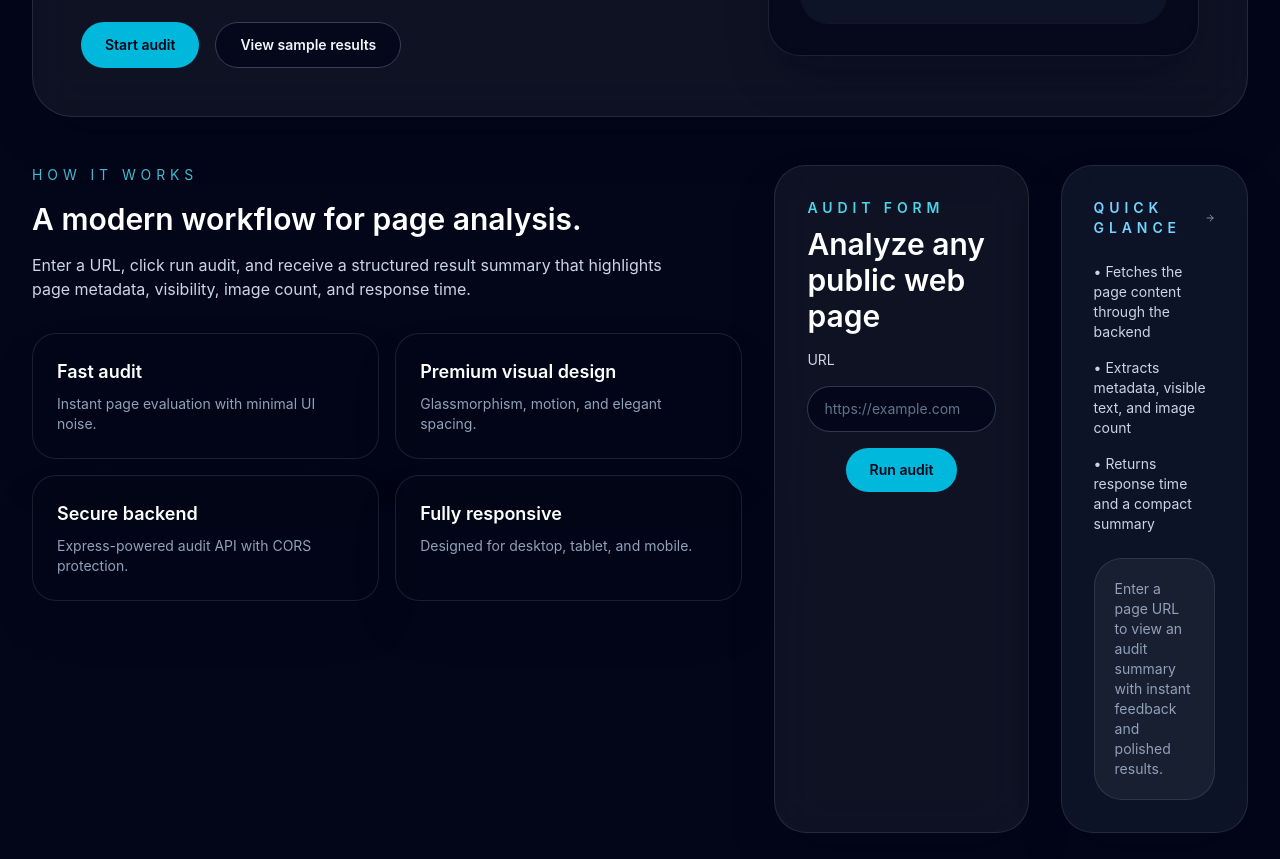
Test: App › shows only the error message when the API returns a failure
(page scrolled)
Step 1. Type "https://www.friv.com" into the field labelled "URL" → (902, 409), box [807,386,996,432]
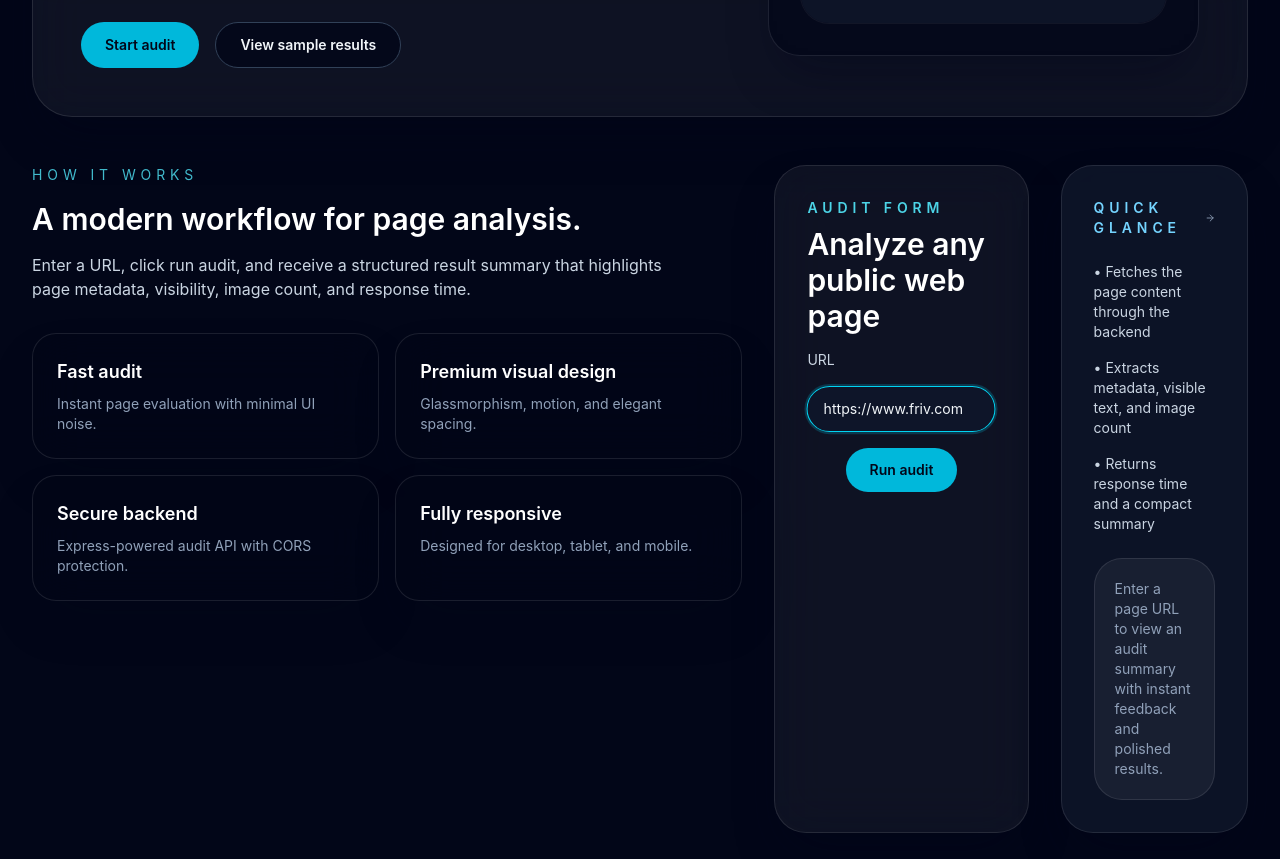
Step 2. Click the button "Run audit" → (902, 470), box [846,448,957,492]
(page scrolled)
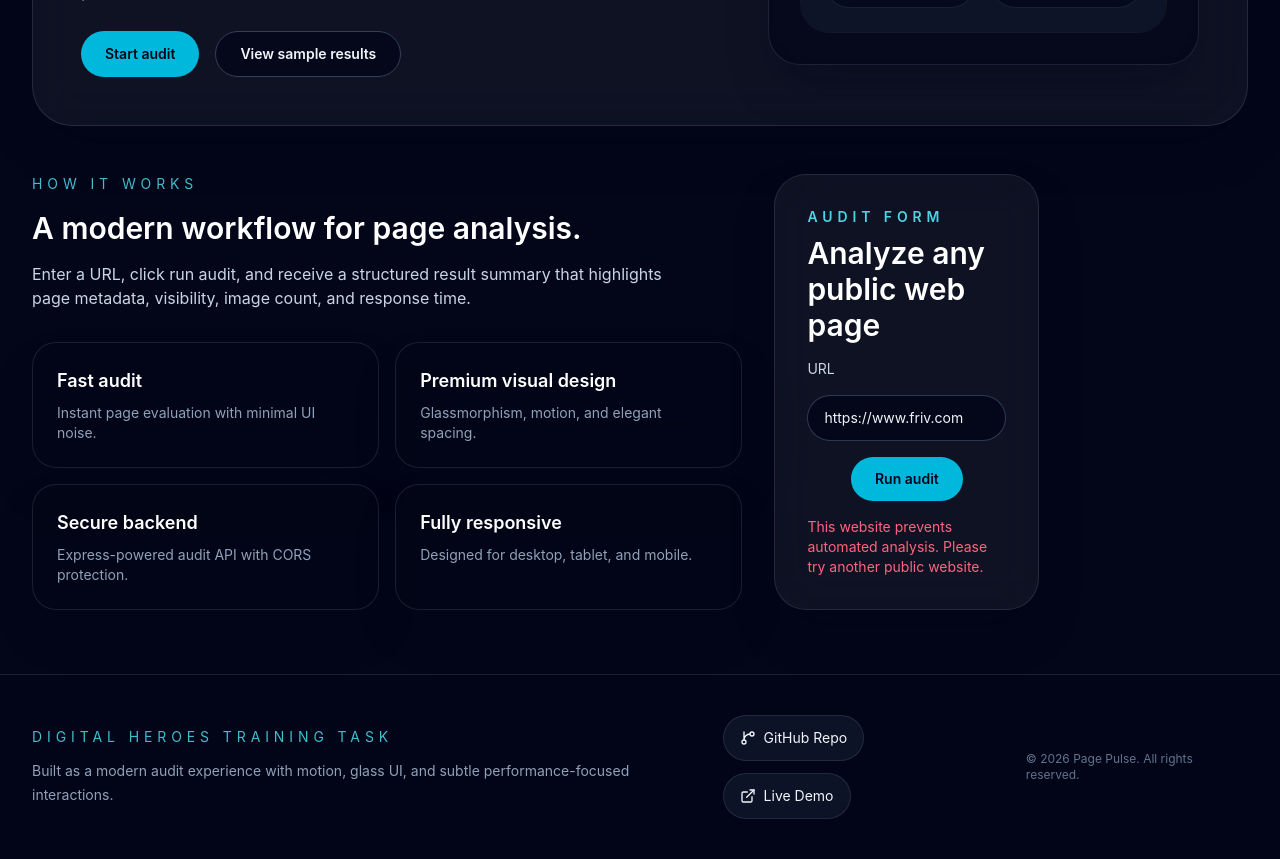
Result: the text "This website prevents automated analysis. Please try another public website." is shown at [807,517,1006,577]
